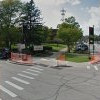crosswalk: (0, 67, 43, 97)
